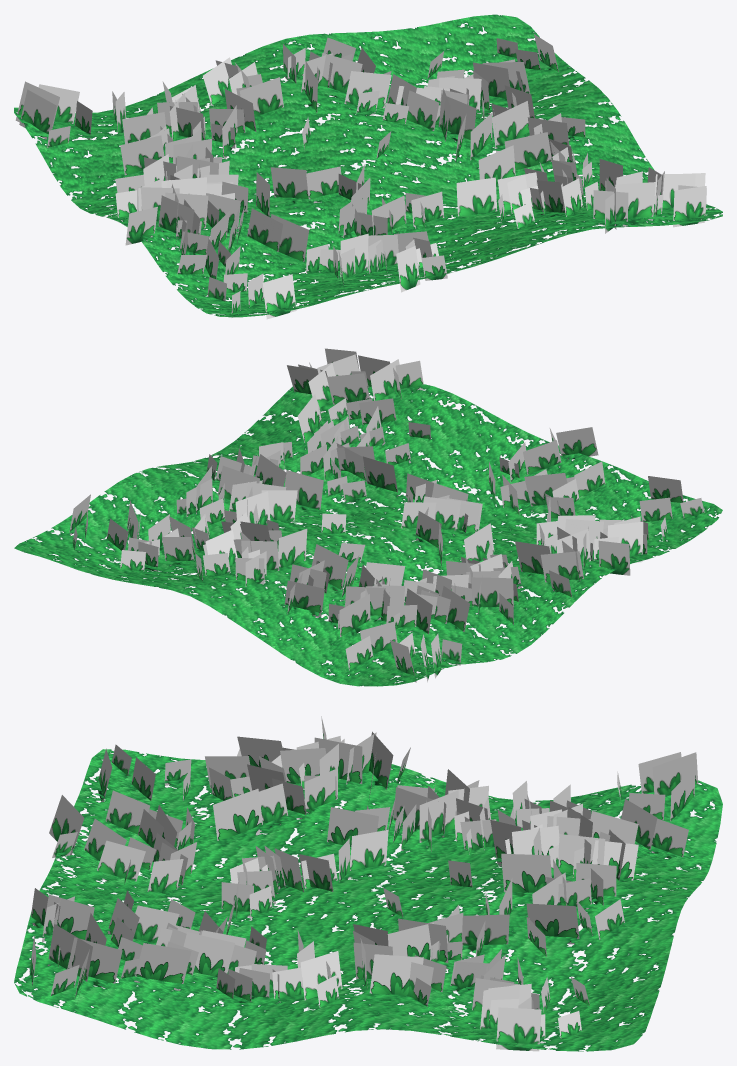
Rendered from Terrain test.fbx.
3 renders of one model, top to bottom at view 1: azimuth 30°, elevation 25°; view 2: azimuth 150°, elevation 25°; view 3: azimuth 270°, elevation 25°, orthographic. The views are drawn at different scales.
Parts seen in each view (by area): view 1: Plane.002, Plane.002|Plane.001|Dupli|101, Plane.002|Plane.001|Dupli|58, Plane.002|Plane.001|Dupli|56, Plane.002|Plane.001|Dupli|96, Plane.002|Plane.001|Dupli|2, Plane.002|Plane.001|Dupli|5, Plane.002|Plane.001|Dupli|186, Plane.002|Plane.001|Dupli|14, Plane.002|Plane.001|Dupli|121, Plane.002|Plane.001|Dupli|146, Plane.002|Plane.001|Dupli|207 (+42 smaller); view 2: Plane.002, Plane.002|Plane.001|Dupli|191, Plane.002|Plane.001|Dupli|80, Plane.002|Plane.001|Dupli|43, Plane.002|Plane.001|Dupli|10, Plane.002|Plane.001|Dupli|211, Plane.002|Plane.001|Dupli|115, Plane.002|Plane.001|Dupli|213, Plane.002|Plane.001|Dupli|147, Plane.002|Plane.001|Dupli|107, Plane.002|Plane.001|Dupli|79, Plane.002|Plane.001|Dupli|121 (+35 smaller); view 3: Plane.002, Plane.002|Plane.001|Dupli|181, Plane.002|Plane.001|Dupli|40, Plane.002|Plane.001|Dupli|107, Plane.002|Plane.001|Dupli|17, Plane.002|Plane.001|Dupli|28, Plane.002|Plane.001|Dupli|93, Plane.002|Plane.001|Dupli|62, Plane.002|Plane.001|Dupli|72, Plane.002|Plane.001|Dupli|178, Plane.002|Plane.001|Dupli|136, Plane.002|Plane.001|Dupli|146 (+54 smaller).
Part boxes in pixels (<box>): Plane.002: <box>14,14,722,317</box>; Plane.002|Plane.001|Dupli|101: <box>456,177,497,216</box>; Plane.002|Plane.001|Dupli|58: <box>504,132,551,170</box>; Plane.002|Plane.001|Dupli|56: <box>492,101,529,152</box>; Plane.002|Plane.001|Dupli|96: <box>344,71,391,109</box>; Plane.002|Plane.001|Dupli|2: <box>673,186,706,227</box>; Plane.002|Plane.001|Dupli|5: <box>615,182,655,224</box>; Plane.002|Plane.001|Dupli|186: <box>120,135,164,175</box>; Plane.002|Plane.001|Dupli|14: <box>262,274,296,319</box>; Plane.002|Plane.001|Dupli|121: <box>239,77,283,116</box>; Plane.002|Plane.001|Dupli|146: <box>270,167,309,203</box>; Plane.002|Plane.001|Dupli|207: <box>19,89,56,139</box>; Plane.002: <box>14,384,722,686</box>; Plane.002|Plane.001|Dupli|191: <box>471,577,513,613</box>; Plane.002|Plane.001|Dupli|80: <box>284,470,323,510</box>; Plane.002|Plane.001|Dupli|43: <box>326,373,370,404</box>; Plane.002|Plane.001|Dupli|10: <box>556,427,598,459</box>; Plane.002|Plane.001|Dupli|211: <box>540,551,583,583</box>; Plane.002|Plane.001|Dupli|115: <box>284,580,324,617</box>; Plane.002|Plane.001|Dupli|213: <box>598,540,630,575</box>; Plane.002|Plane.001|Dupli|147: <box>524,473,567,511</box>; Plane.002|Plane.001|Dupli|107: <box>278,528,307,568</box>; Plane.002|Plane.001|Dupli|79: <box>261,490,297,526</box>; Plane.002|Plane.001|Dupli|121: <box>311,544,348,590</box>; Plane.002: <box>14,749,722,1051</box>; Plane.002|Plane.001|Dupli|181: <box>213,788,262,840</box>; Plane.002|Plane.001|Dupli|40: <box>134,943,191,990</box>; Plane.002|Plane.001|Dupli|107: <box>501,853,551,896</box>; Plane.002|Plane.001|Dupli|17: <box>496,1007,541,1051</box>; Plane.002|Plane.001|Dupli|28: <box>369,954,423,1003</box>; Plane.002|Plane.001|Dupli|93: <box>526,903,579,944</box>; Plane.002|Plane.001|Dupli|62: <box>183,932,234,979</box>; Plane.002|Plane.001|Dupli|72: <box>461,914,509,951</box>; Plane.002|Plane.001|Dupli|178: <box>327,807,378,846</box>; Plane.002|Plane.001|Dupli|136: <box>97,840,145,886</box>; Plane.002|Plane.001|Dupli|146: <box>349,829,388,878</box>.
Bounding box in the file's own units: 8669 × 1288 × 8669.
